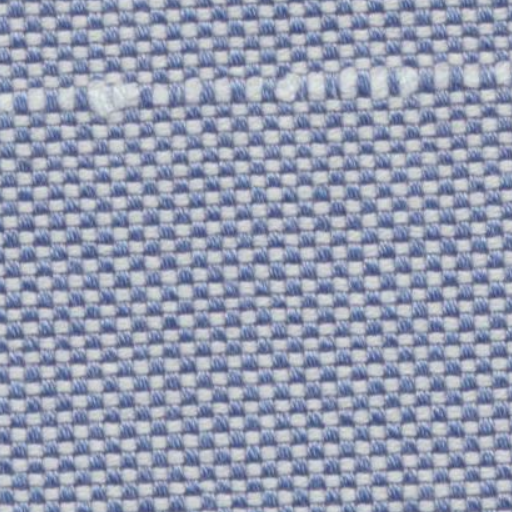DaiSha: (12, 48, 492, 138)
